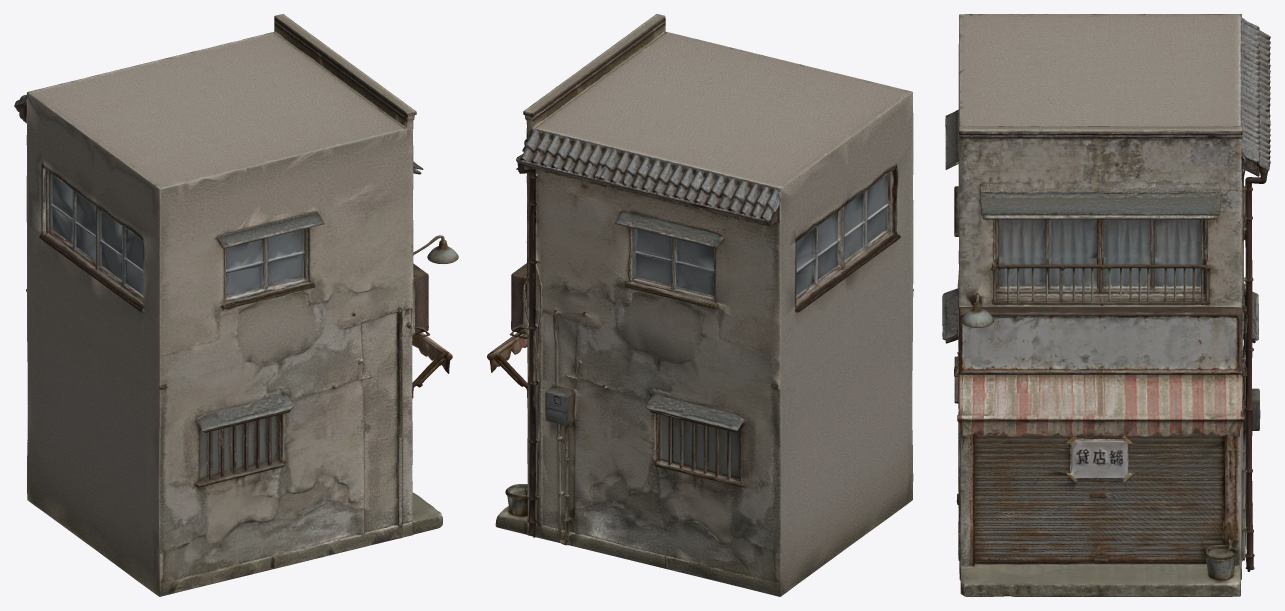
Rendered from empty.glb.
The picture shows the model from 3 angles, left to right: view 1: azimuth 30°, elevation 25°; view 2: azimuth 150°, elevation 25°; view 3: azimuth 270°, elevation 25°; orthographic projection. The views are drawn at different scales.
Parts seen in each view (by area): view 1: tripo_node_97dcc7e7-7cd4-4f81-bfbc-dd929be133da; view 2: tripo_node_97dcc7e7-7cd4-4f81-bfbc-dd929be133da; view 3: tripo_node_97dcc7e7-7cd4-4f81-bfbc-dd929be133da.
Boxes of the visible parts, x1=… form: tripo_node_97dcc7e7-7cd4-4f81-bfbc-dd929be133da: x1=14, y1=14, x2=458, y2=596; tripo_node_97dcc7e7-7cd4-4f81-bfbc-dd929be133da: x1=487, y1=14, x2=913, y2=596; tripo_node_97dcc7e7-7cd4-4f81-bfbc-dd929be133da: x1=942, y1=14, x2=1270, y2=596.
Size of the model in its own units: 0.7617 by 1 by 0.6591.
1 material, 1 textured.
